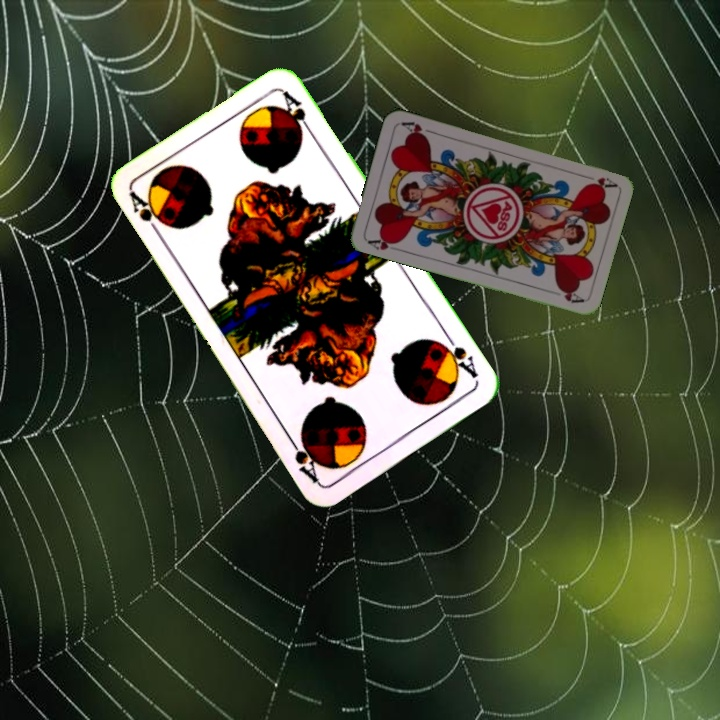HA: (579, 171, 619, 192), (363, 232, 402, 253)
SA: (433, 329, 482, 381), (125, 188, 166, 242)
